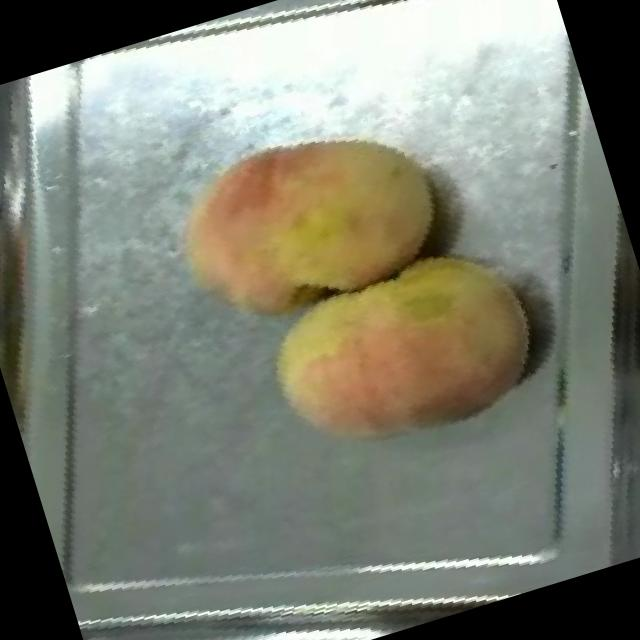Fruit: (220, 197, 588, 516), (128, 68, 486, 375)
